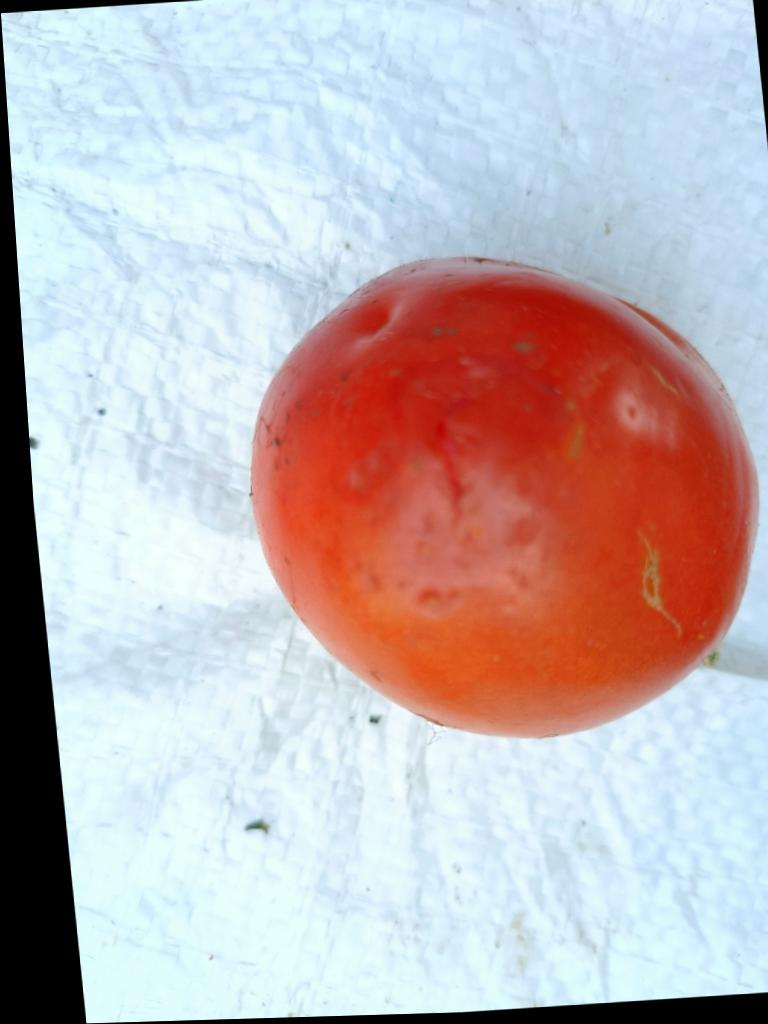surface_damage: (638, 531, 681, 635)
tomato: (251, 259, 758, 736)
